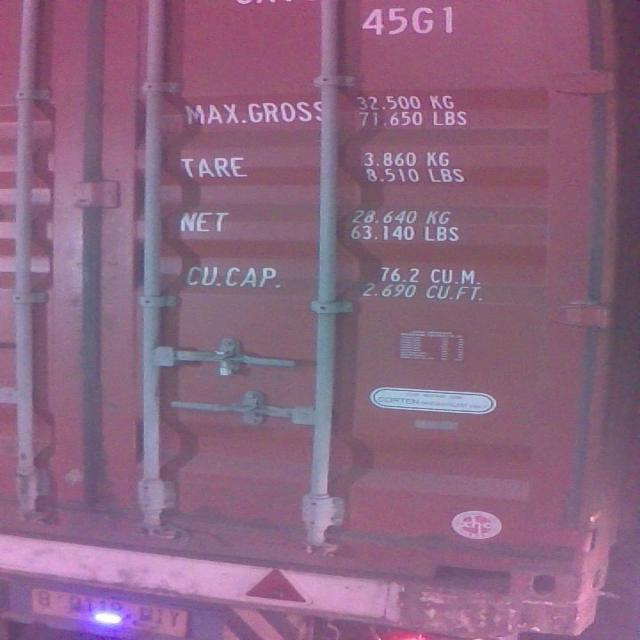seal: (215, 349, 245, 378)
